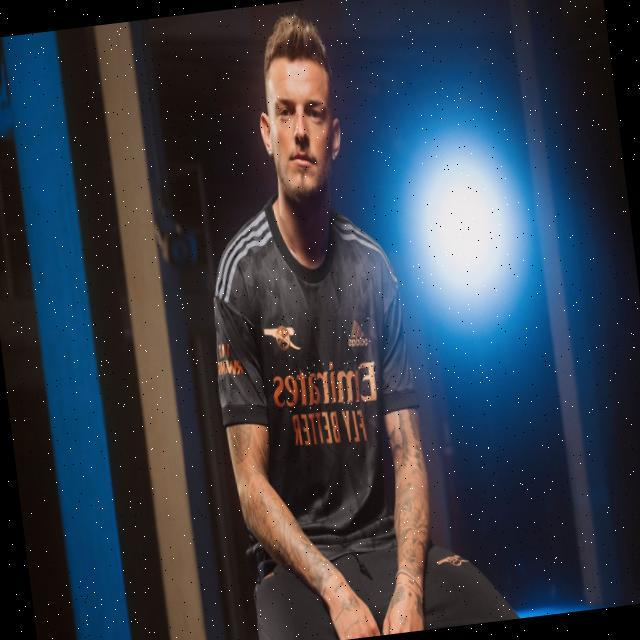Adidas: (342, 317, 373, 347)
Emirates: (269, 355, 382, 414)
